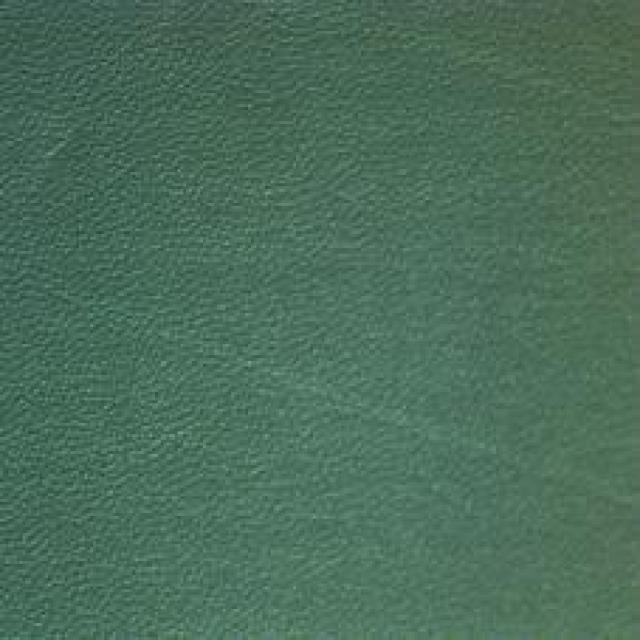Growth Marks: (104, 301, 402, 466), (440, 404, 611, 526)
